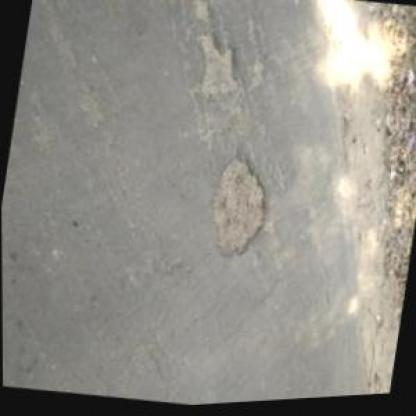pothole: (201, 154, 273, 269), (183, 32, 245, 107)
